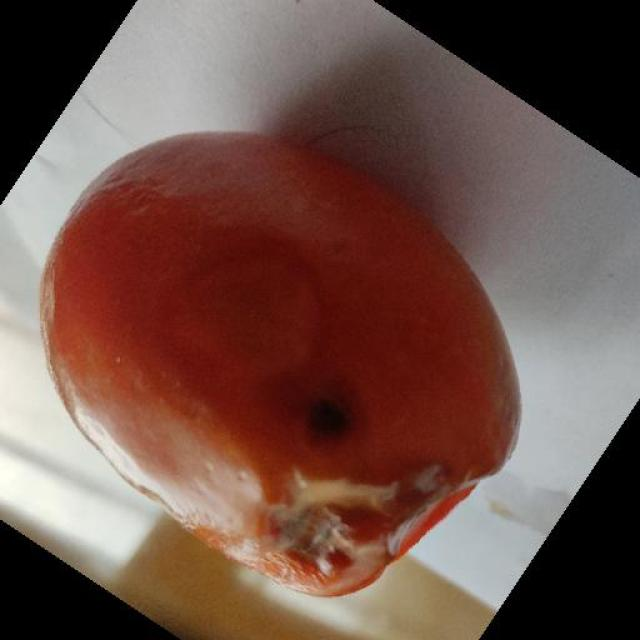Stale_tomato: (54, 134, 486, 556)
